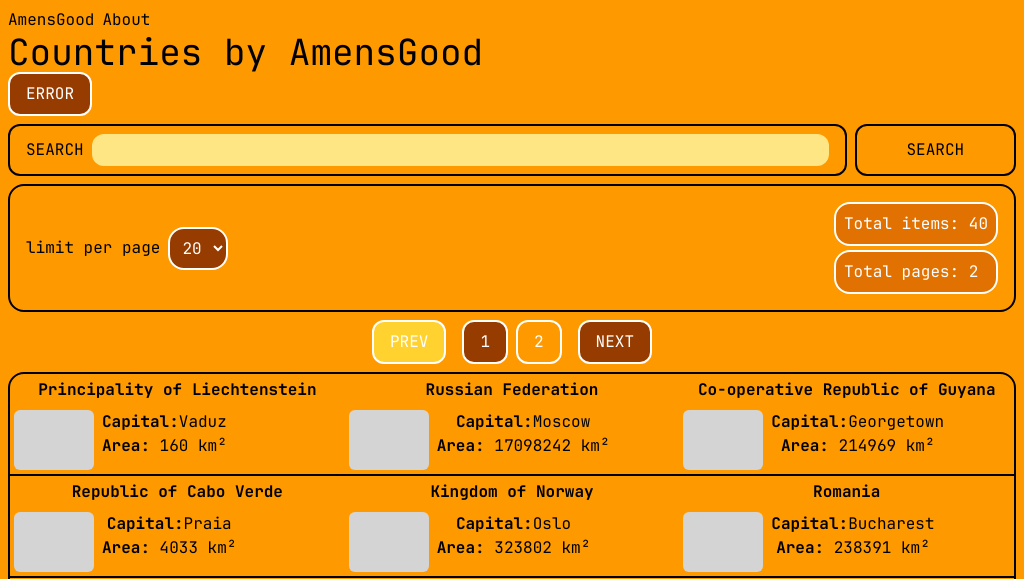
Test: home page › user can navigate through pages
Expected: the button "prev" is disabled, [372,320,446,364]
Expected: the heading "Total pages: 2" is shown, [834,250,998,294]
Click the button "next" at [615, 342], box [578,320,652,364]
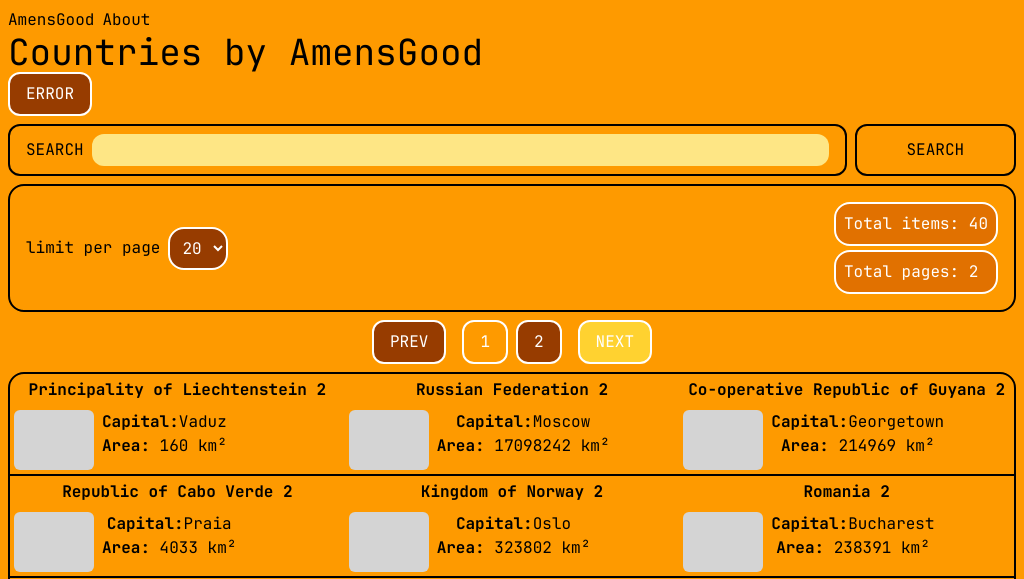
Now the button "prev" is enabled
Now the button "next" is disabled, box [578,320,652,364]
Click the button "prev" at [409, 342], box [372,320,446,364]
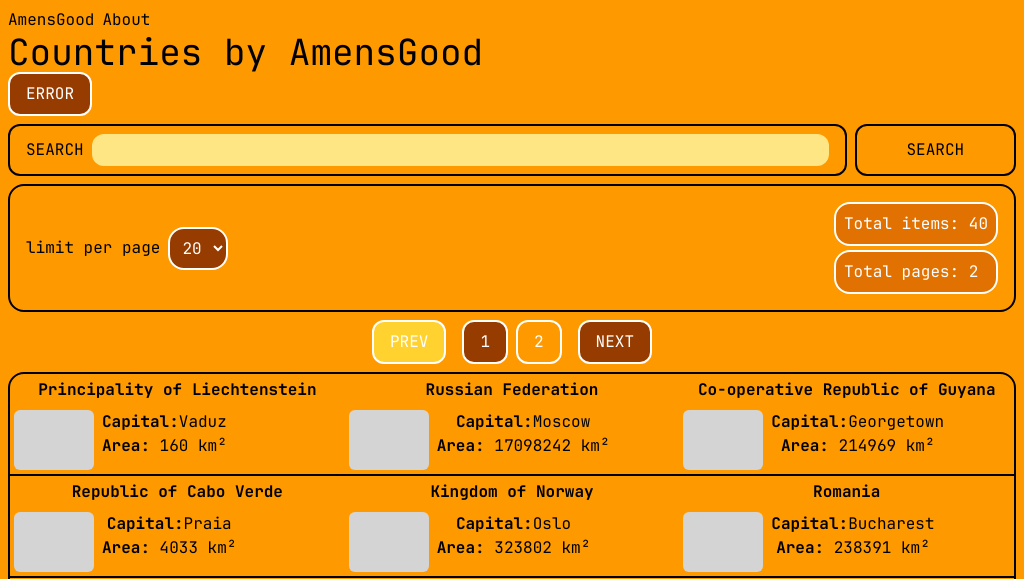
Now the button "prev" is disabled, box [372,320,446,364]
Now the button "next" is enabled, box [578,320,652,364]
Click the button "2" at [539, 342], box [516,320,562,364]
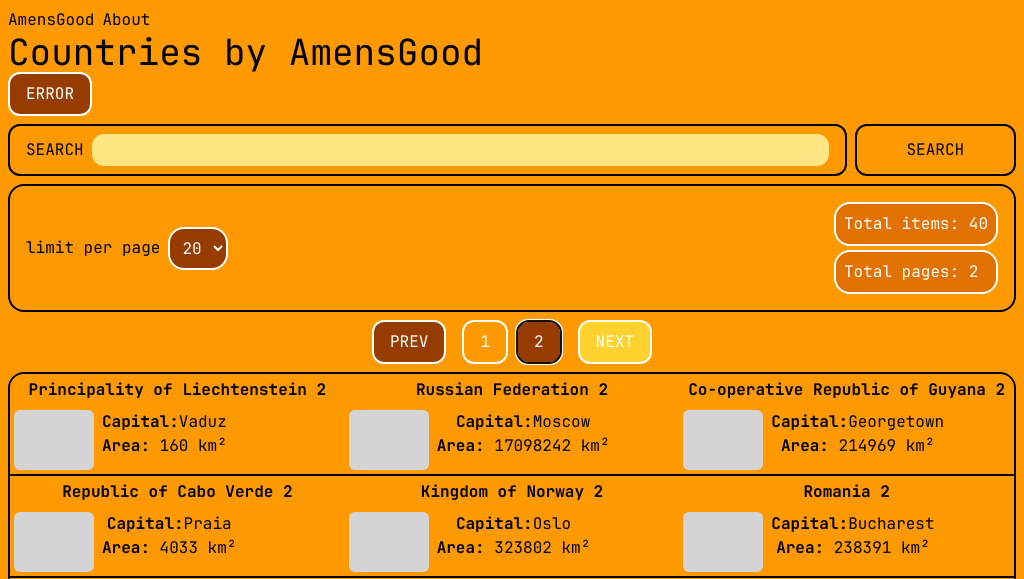
Now the button "prev" is enabled, box [372,320,446,364]
Now the button "next" is disabled, box [578,320,652,364]
